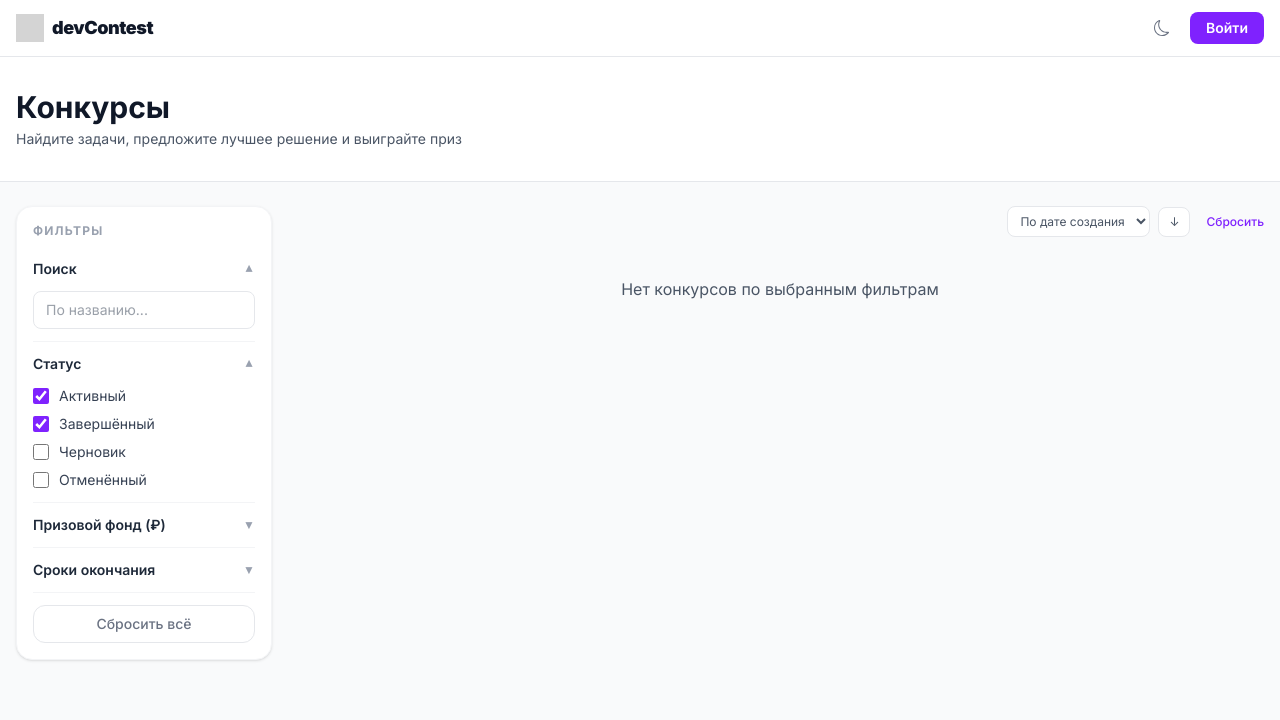
Test: Авторизация и регистрация › отображает форму входа
The image size is (1280, 720).
Click the button "Войти".
click(1227, 28)  # box [1190, 12, 1264, 44]
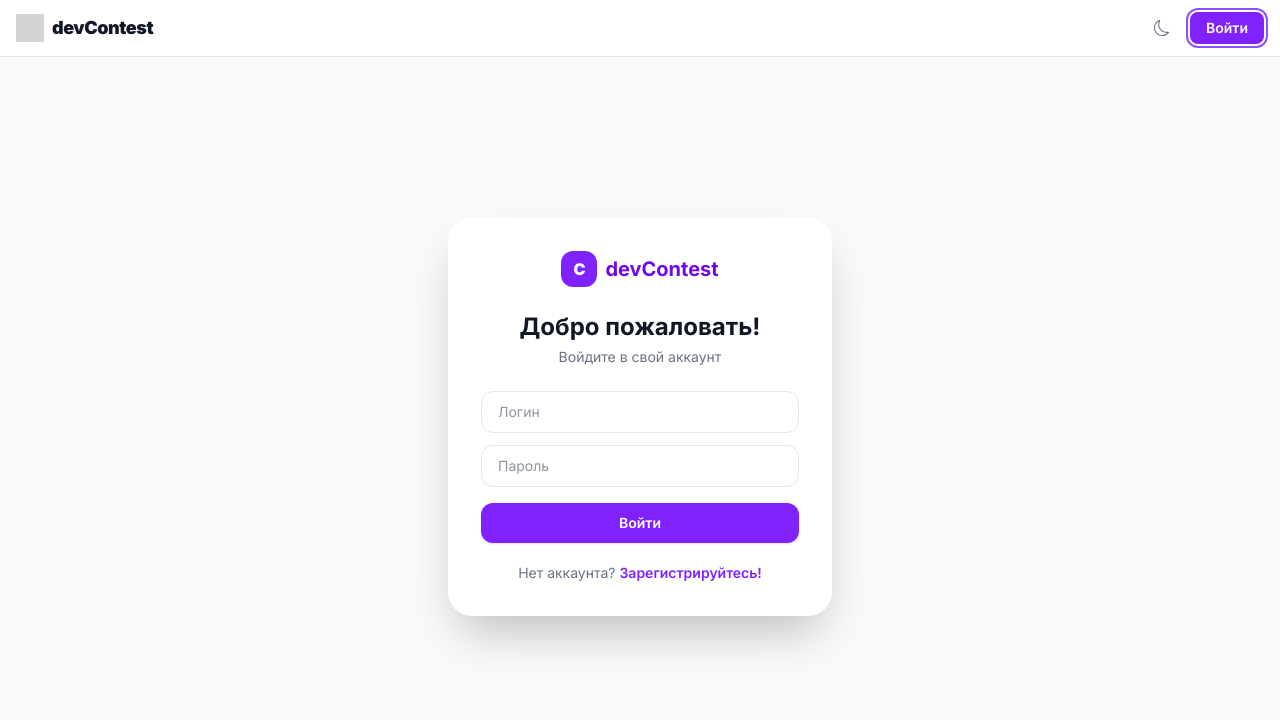
Expected: the field with placeholder "Логин" is shown, [481, 391, 799, 433]
Expected: the heading "Добро пожаловать!" is shown, [520, 312, 760, 341]
